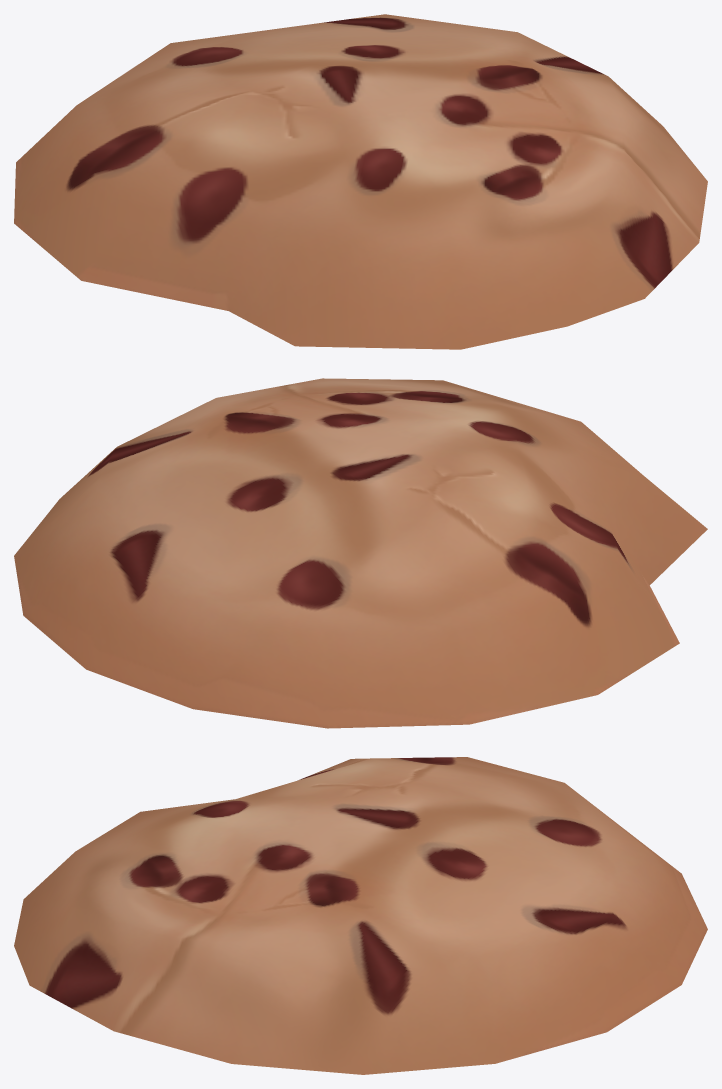
Rendered from Coockie.glb.
3 views of the same model, one above another, from view 1: azimuth 30°, elevation 25°; view 2: azimuth 150°, elevation 25°; view 3: azimuth 270°, elevation 25° (orthographic). The views are drawn at different scales.
Parts seen in each view (by area): view 1: Object_6.001; view 2: Object_6.001; view 3: Object_6.001.
Boxes of the visible parts, left/top/right/bottom form: Object_6.001: left=14, top=14, right=707, bottom=349; Object_6.001: left=14, top=378, right=707, bottom=728; Object_6.001: left=14, top=757, right=707, bottom=1074.
Bounding box in the file's own units: 0.1546 × 0.0314 × 0.161.
Materials: 1 (1 with a texture image).
